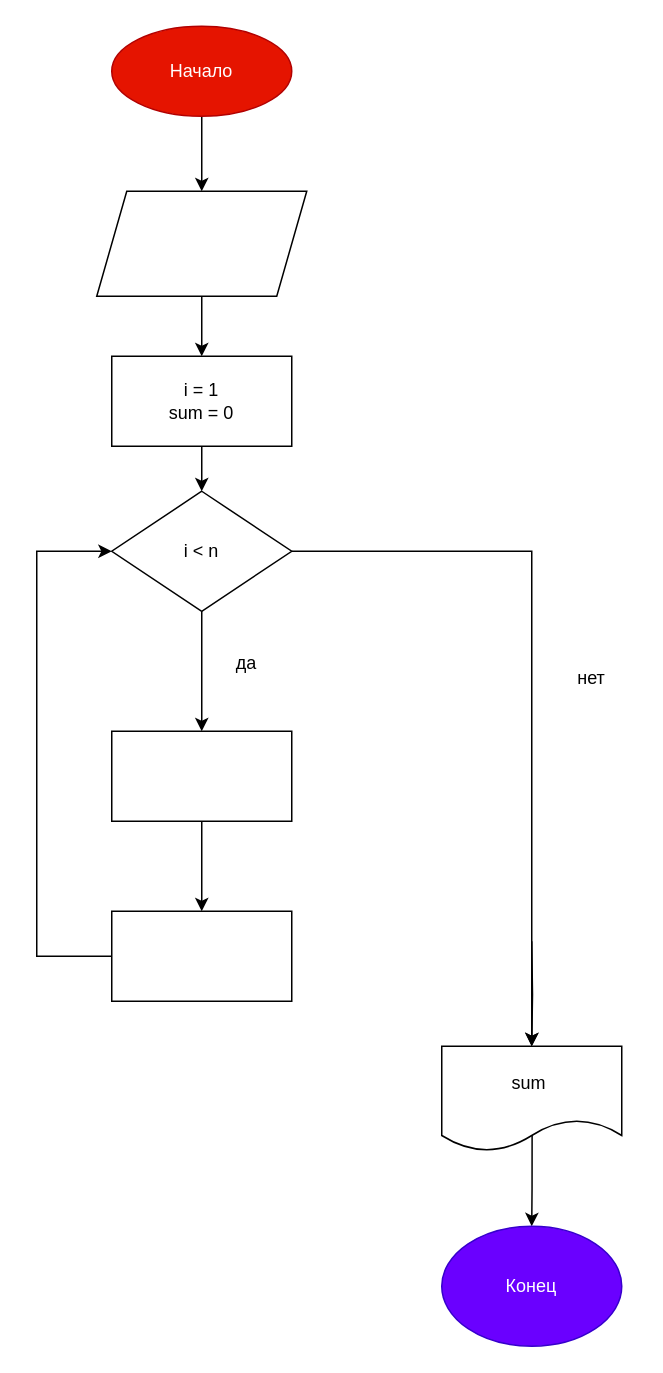
This 663x1373 diagram has some shape labels left out. Each missing label, with the centre of its shape:
i = i + 1: point 201,955
sum = sum + a[i]: point 201,775
массив а n - размер массива: point 201,243
